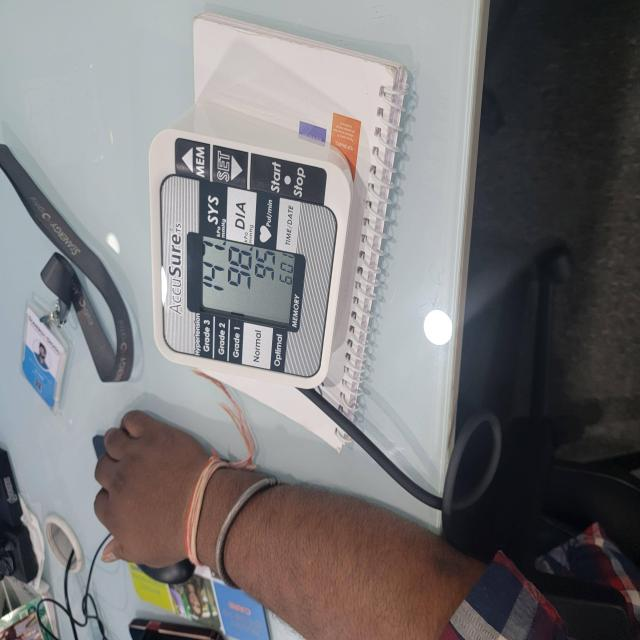bp: (151, 129, 342, 387)
